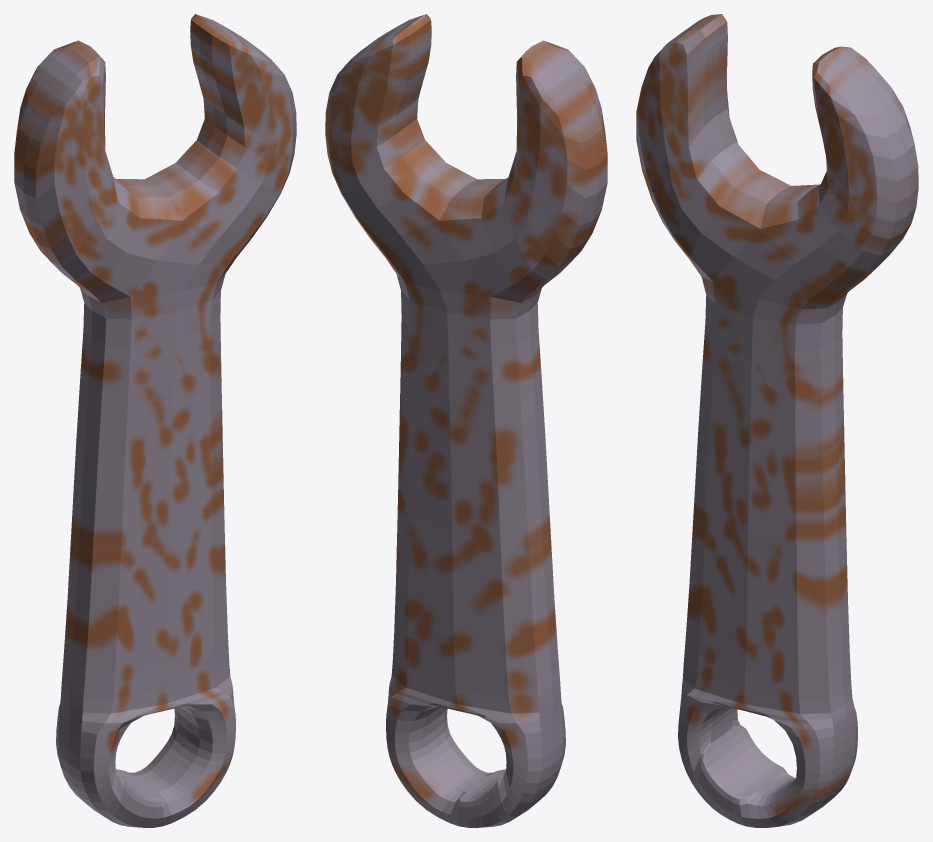
The model's file is herra.fbx.
3 views of the same model, side by side, from view 1: azimuth 30°, elevation 25°; view 2: azimuth 150°, elevation 25°; view 3: azimuth 330°, elevation 25° (orthographic).
Visible parts, largest first — view 1: Plano; view 2: Plano; view 3: Plano.
Part boxes in pixels (x1,y1,x2,y2): Plano: (14, 14, 296, 827); Plano: (325, 14, 607, 827); Plano: (636, 14, 918, 827).
Bounding box in the file's own units: 0.9901 × 2.81 × 0.3065.
1 material, 1 textured.
